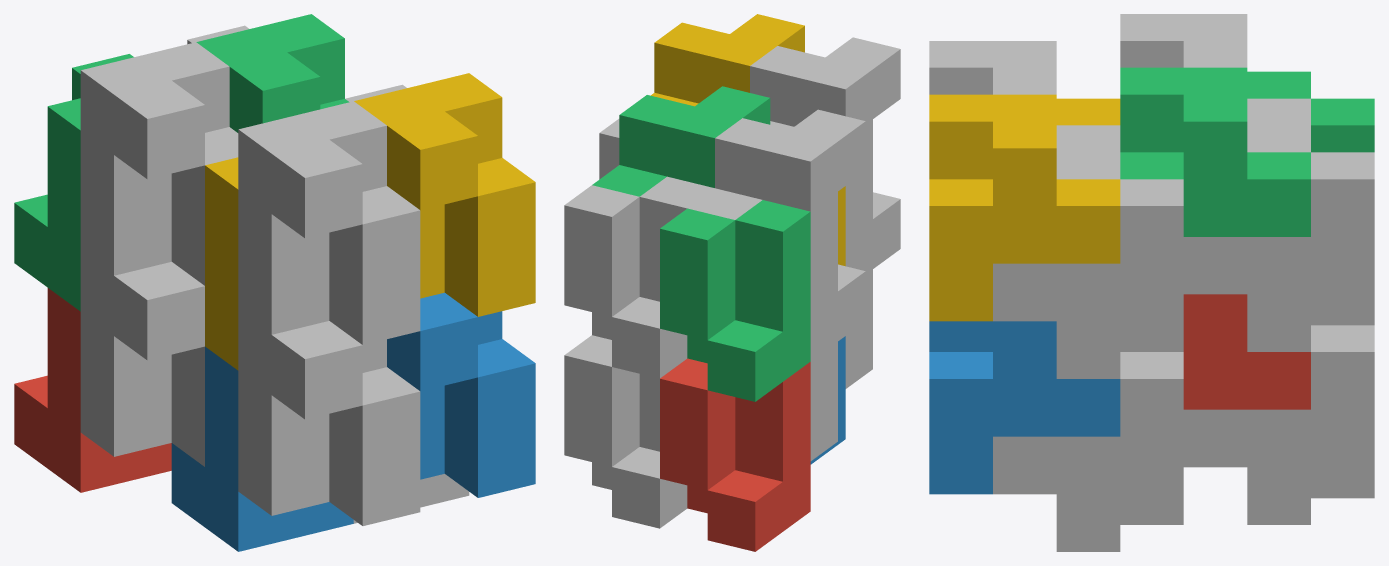
Rendered from tiling.obj.
3 renders of one model, left to right at view 1: azimuth 30°, elevation 25°; view 2: azimuth 150°, elevation 25°; view 3: azimuth 270°, elevation 25°, orthographic. The views are drawn at different scales.
Visible parts, largest first — view 1: copy_2_domain_4, copy_2_domain_2, copy_2_domain_3, copy_2_domain_8, copy_2_domain_1, copy_2_domain_6, copy_1_domain_1, copy_1_domain_2, copy_2_domain_7, copy_1_domain_3, copy_1_domain_4, copy_1_domain_6; view 2: copy_1_domain_3, copy_1_domain_1, copy_1_domain_7, copy_2_domain_3, copy_1_domain_5, copy_2_domain_4, copy_2_domain_7, copy_2_domain_8, copy_2_domain_1, copy_2_domain_2, copy_1_domain_8, copy_1_domain_2 (+1 smaller); view 3: copy_2_domain_8, copy_1_domain_8, copy_1_domain_7, copy_2_domain_7, copy_1_domain_5, copy_2_domain_6, copy_1_domain_6, copy_2_domain_5, copy_2_domain_4, copy_2_domain_3, copy_1_domain_3, copy_1_domain_4.
Part boxes in pixels (<box>): copy_2_domain_4: <box>238,101,420,344</box>; copy_2_domain_2: <box>238,310,420,525</box>; copy_2_domain_3: <box>80,42,238,285</box>; copy_2_domain_8: <box>354,73,535,316</box>; copy_2_domain_1: <box>80,251,204,466</box>; copy_2_domain_6: <box>387,292,535,497</box>; copy_1_domain_1: <box>14,288,171,492</box>; copy_1_domain_2: <box>171,346,353,551</box>; copy_2_domain_7: <box>196,14,349,132</box>; copy_1_domain_3: <box>14,54,133,311</box>; copy_1_domain_4: <box>205,157,238,370</box>; copy_1_domain_6: <box>353,474,469,523</box>; copy_1_domain_3: <box>660,200,810,401</box>; copy_1_domain_1: <box>660,358,810,551</box>; copy_1_domain_7: <box>564,176,714,378</box>; copy_2_domain_3: <box>688,109,865,310</box>; copy_1_domain_5: <box>564,335,687,528</box>; copy_2_domain_4: <box>750,37,900,238</box>; copy_2_domain_7: <box>592,86,770,196</box>; copy_2_domain_8: <box>651,14,804,106</box>; copy_2_domain_1: <box>810,264,865,460</box>; copy_2_domain_2: <box>845,192,900,388</box>; copy_1_domain_8: <box>599,119,619,179</box>; copy_1_domain_2: <box>810,336,845,464</box>; copy_2_domain_8: <box>929,94,1120,321</box>; copy_1_domain_8: <box>993,152,1183,378</box>; copy_1_domain_7: <box>1183,125,1374,351</box>; copy_2_domain_7: <box>1120,67,1310,236</box>; copy_1_domain_5: <box>1183,325,1374,524</box>; copy_2_domain_6: <box>929,321,1120,494</box>; copy_1_domain_6: <box>993,352,1183,551</box>; copy_2_domain_5: <box>1183,294,1310,409</box>; copy_2_domain_4: <box>929,41,1120,152</box>; copy_2_domain_3: <box>1120,14,1310,125</box>; copy_1_domain_3: <box>1247,71,1374,152</box>; copy_1_domain_4: <box>1056,98,1120,125</box>.
Bounding box in the file's own units: 5 × 7 × 7.
